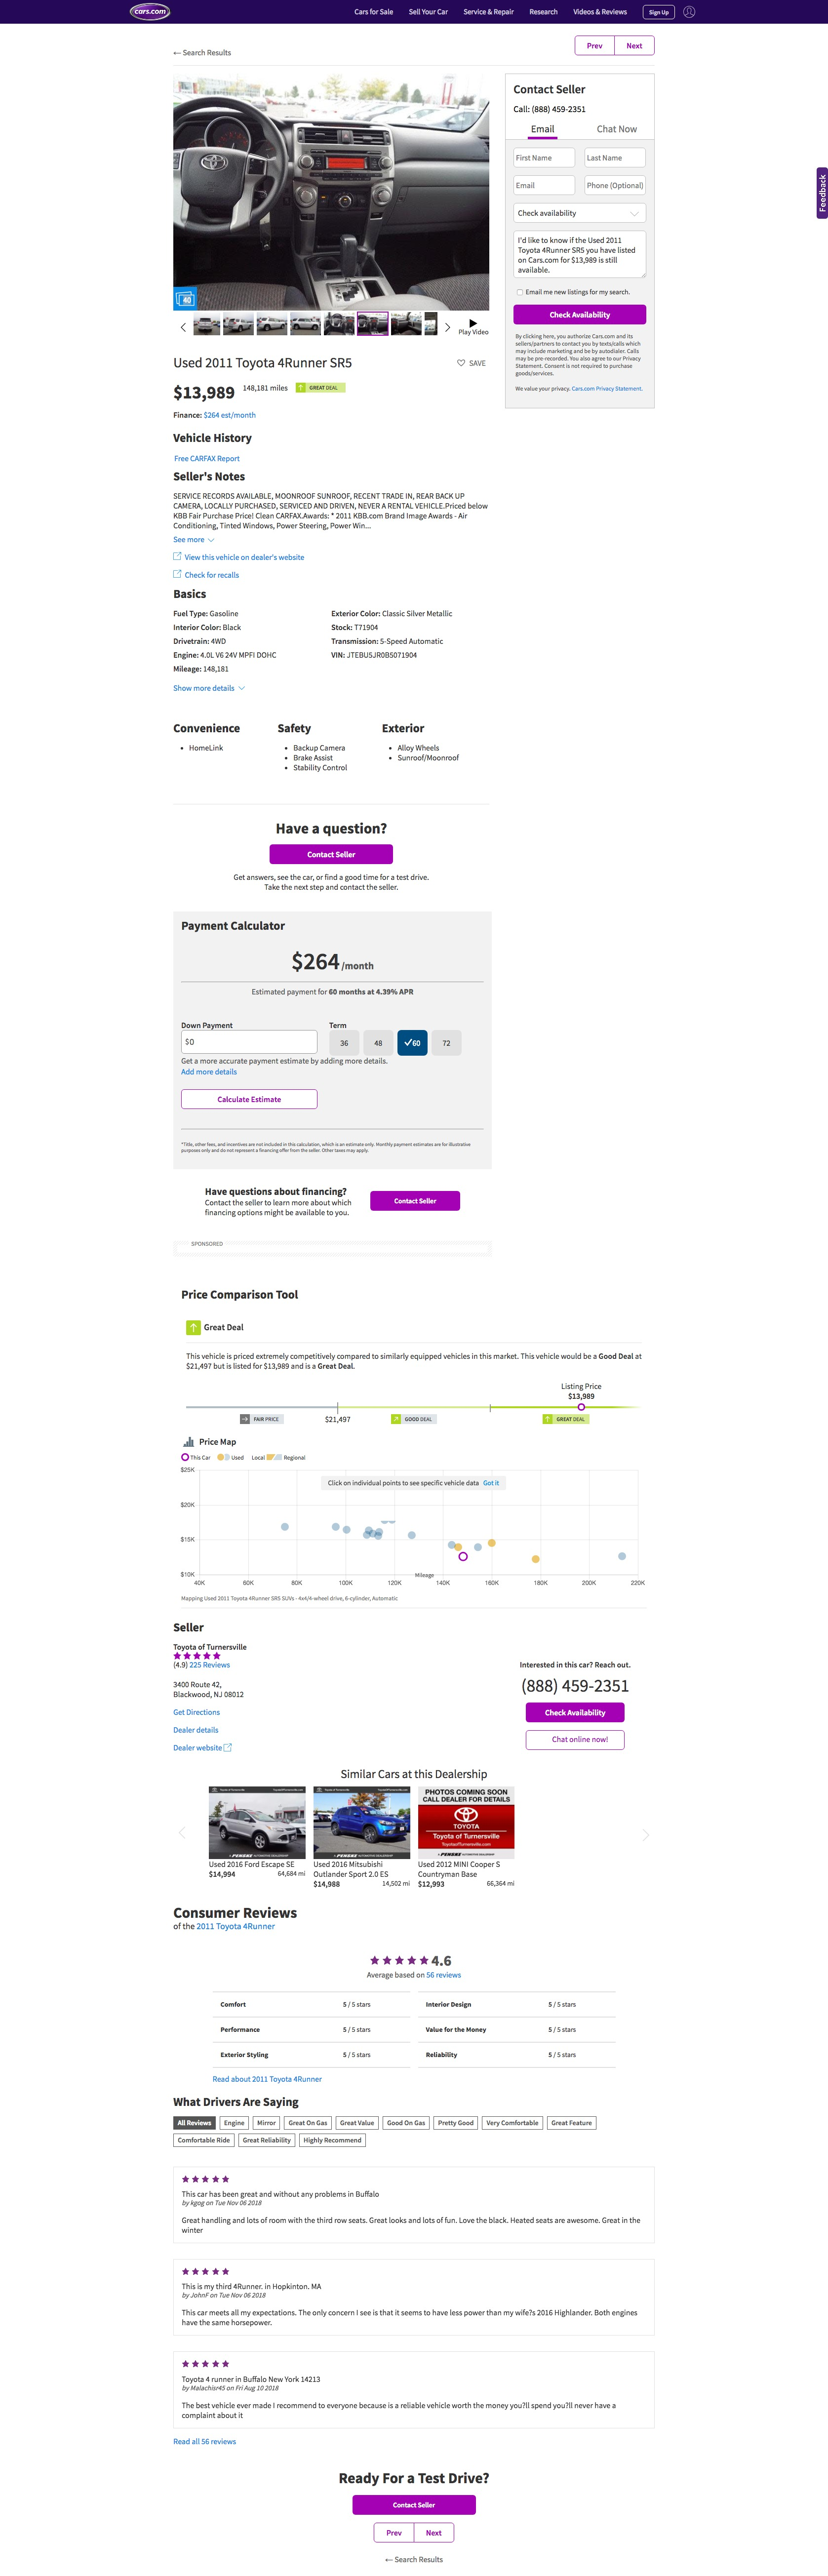car: (445, 324, 450, 334)
